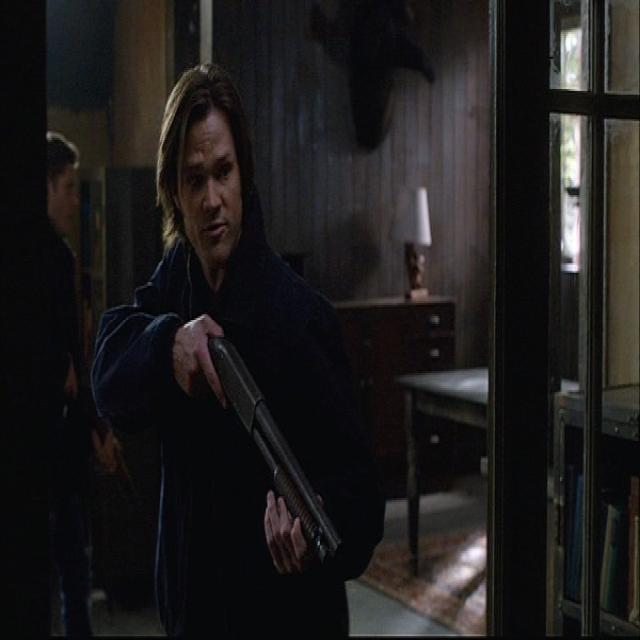rifle: (205, 336, 353, 581)
